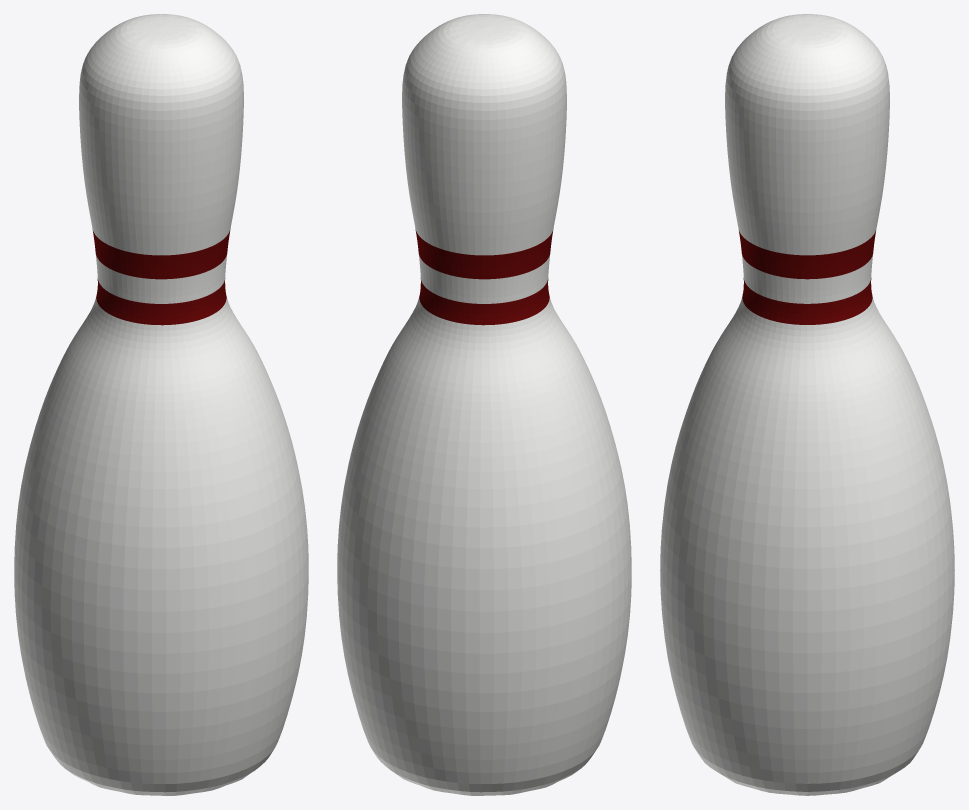
Rendered from balling.fbx.
3 views of the same model, side by side, from view 1: azimuth 30°, elevation 25°; view 2: azimuth 150°, elevation 25°; view 3: azimuth 270°, elevation 25° (orthographic).
Visible parts, largest first — view 1: Circle; view 2: Circle; view 3: Circle.
Boxes of the visible parts, left/top/right/bottom form: Circle: left=14, top=14, right=308, bottom=795; Circle: left=337, top=14, right=631, bottom=795; Circle: left=660, top=14, right=954, bottom=795.
Size of the model in its own units: 0.1374 by 0.1374 by 0.3801.
Materials: 2 (1 with a texture image).
